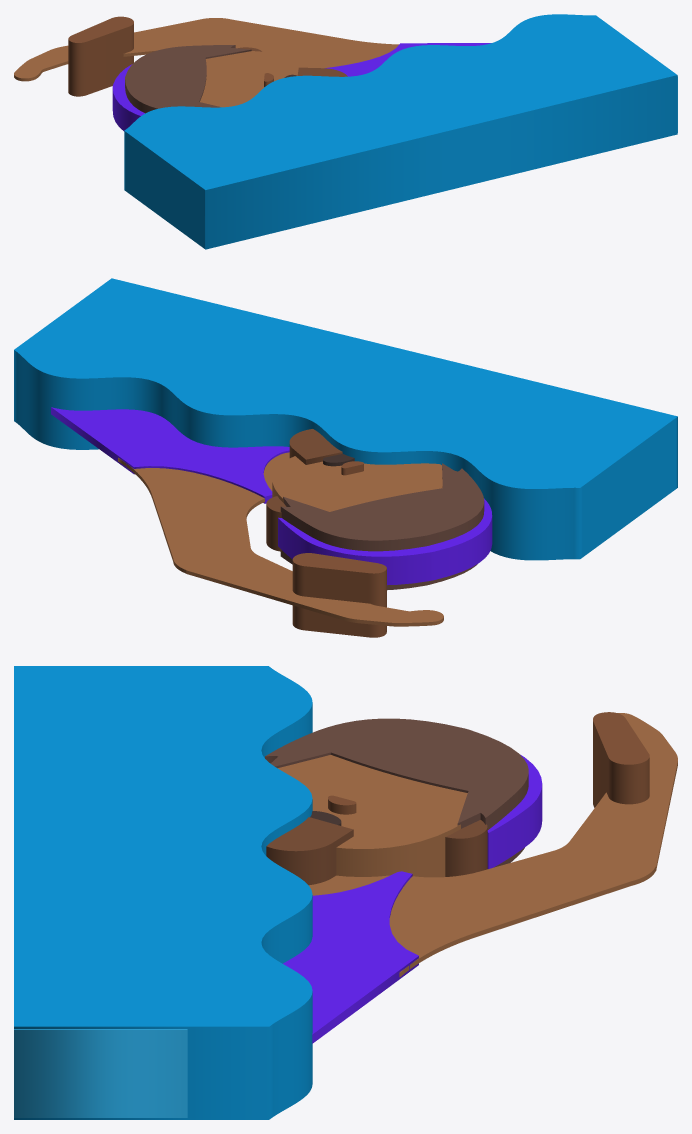
File: emoji_u1f3ca_1f3fe_200d_2640.glb
3 views of the same model, one above another, from view 1: azimuth 30°, elevation 25°; view 2: azimuth 150°, elevation 25°; view 3: azimuth 270°, elevation 25° (orthographic). The views are drawn at different scales.
Parts seen in each view (by area): view 1: emoji_u1f3ca_1f3fe_200d_2640; view 2: emoji_u1f3ca_1f3fe_200d_2640; view 3: emoji_u1f3ca_1f3fe_200d_2640.
Boxes of the visible parts, box(x1,y1,x2,y2) form: emoji_u1f3ca_1f3fe_200d_2640: box(14, 14, 677, 249); emoji_u1f3ca_1f3fe_200d_2640: box(14, 278, 677, 637); emoji_u1f3ca_1f3fe_200d_2640: box(14, 666, 677, 1119).
Bounding box in the file's own units: 0.0333 × 0.004 × 0.0258.
